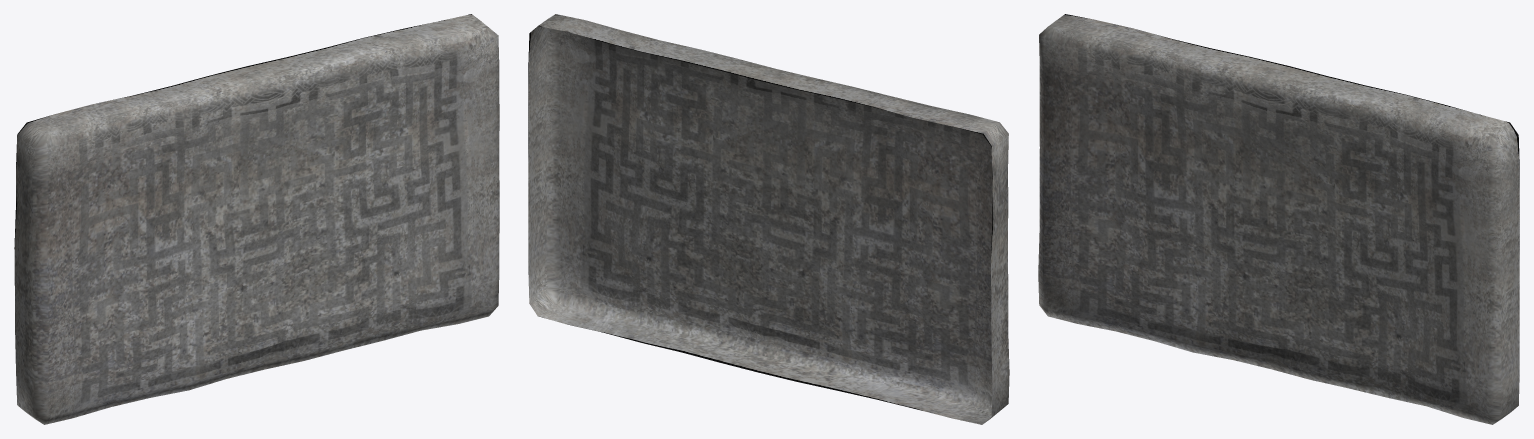
Rendered from Mural_Rect_A.FBX.
3 renders of one model, left to right at view 1: azimuth 30°, elevation 25°; view 2: azimuth 150°, elevation 25°; view 3: azimuth 330°, elevation 25°, orthographic.
Parts seen in each view (by area): view 1: Mural_Rect_Base_A; view 2: Mural_Rect_Base_A; view 3: Mural_Rect_Base_A.
Part boxes in pixels (bbox=[...]): Mural_Rect_Base_A: bbox=[14, 14, 499, 424]; Mural_Rect_Base_A: bbox=[528, 14, 1009, 424]; Mural_Rect_Base_A: bbox=[1038, 14, 1519, 424].
Size of the model in its own units: 200 by 120 by 17.75.
